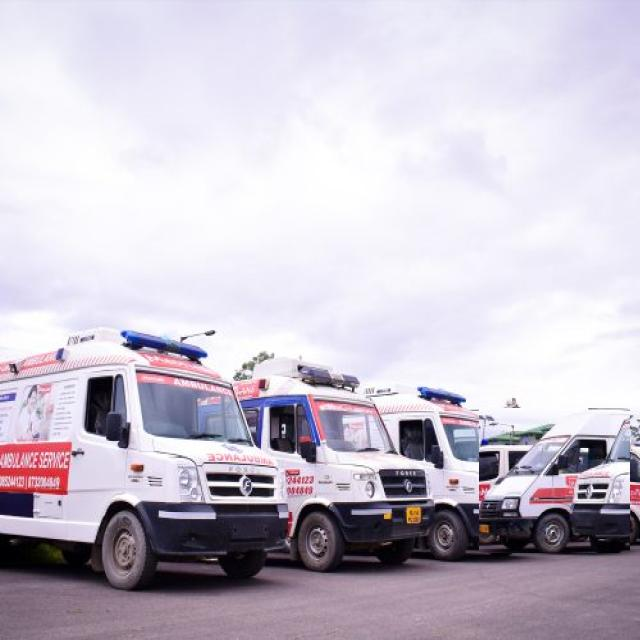emergency: (0, 331, 289, 588), (235, 361, 434, 570), (371, 388, 538, 560), (479, 408, 630, 553)
